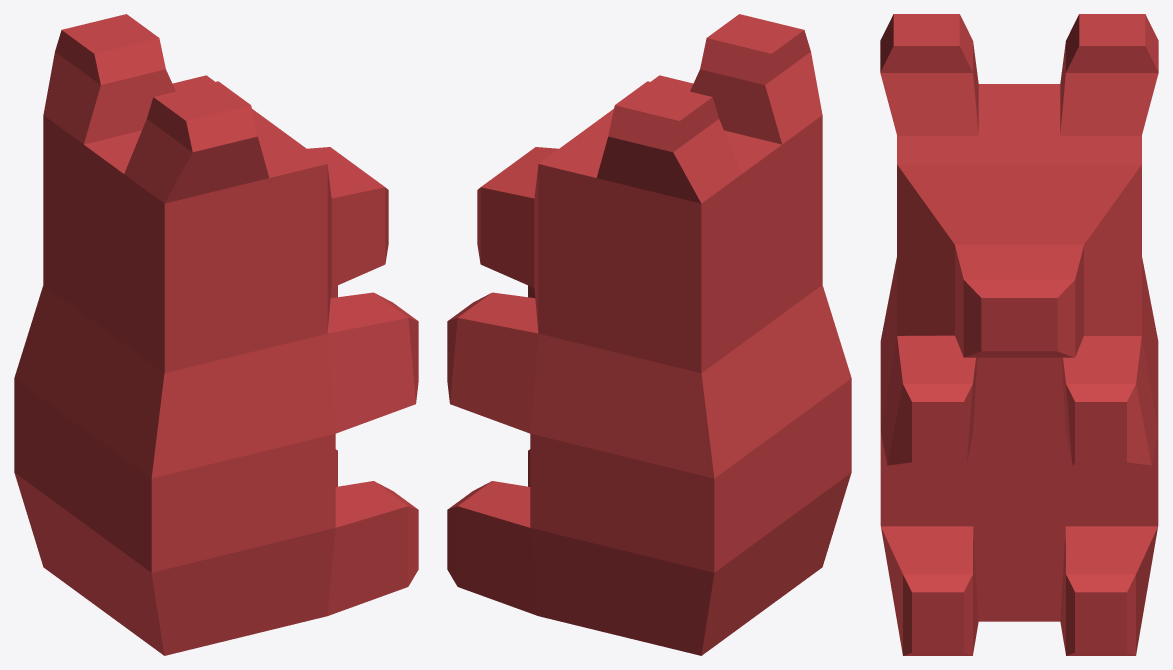
Rendered from 8TMPYVGan_T.glb.
3 views of the same model, side by side, from view 1: azimuth 30°, elevation 25°; view 2: azimuth 150°, elevation 25°; view 3: azimuth 270°, elevation 25° (orthographic).
Visible parts, largest first — view 1: Cube.011_Cube.023; view 2: Cube.011_Cube.023; view 3: Cube.011_Cube.023.
Boxes of the visible parts, <box> form: Cube.011_Cube.023: <box>14,14,418,655</box>; Cube.011_Cube.023: <box>447,14,851,655</box>; Cube.011_Cube.023: <box>880,14,1158,655</box>.
Size of the model in its own units: 0.5651 by 1 by 0.4699.
